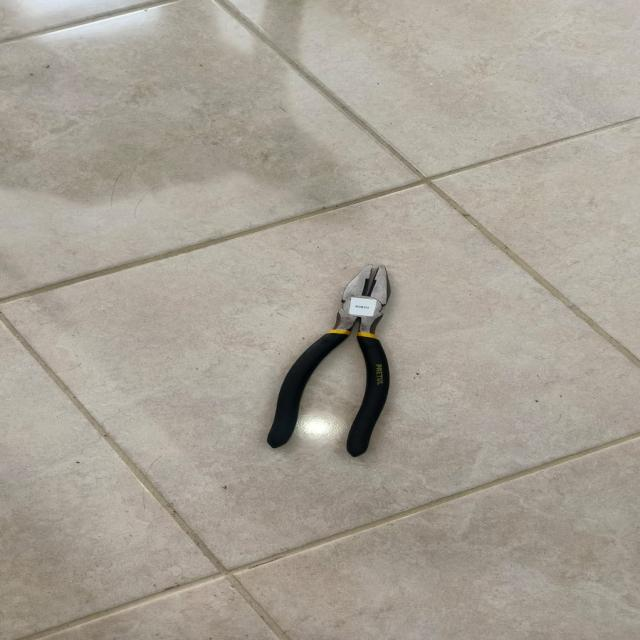alicate: (263, 250, 427, 475)
